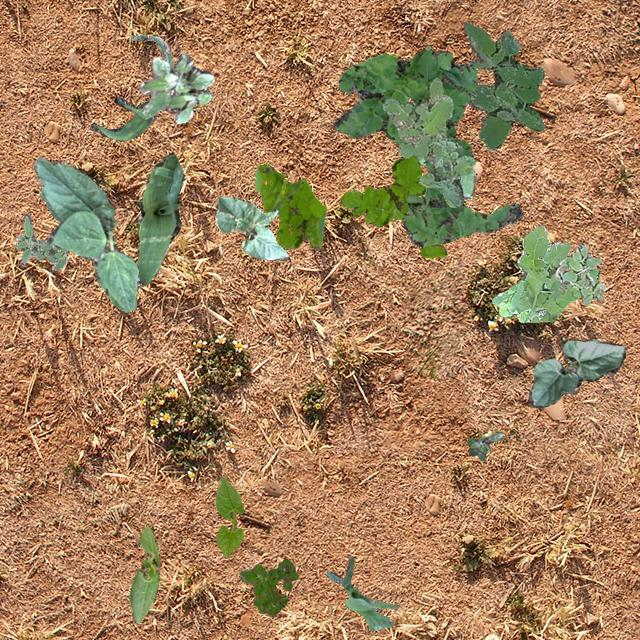crop: (32, 156, 138, 312), (88, 34, 172, 140), (528, 338, 624, 406), (136, 152, 182, 284), (324, 556, 398, 630), (214, 196, 288, 260), (128, 524, 158, 622), (412, 152, 474, 198), (215, 476, 242, 556)
weed: (332, 44, 522, 246), (338, 154, 472, 256), (382, 76, 474, 206), (491, 222, 598, 322), (462, 20, 544, 148), (254, 163, 324, 250), (138, 49, 212, 122), (238, 558, 298, 616), (554, 242, 604, 304), (14, 212, 66, 270), (466, 430, 502, 460)
